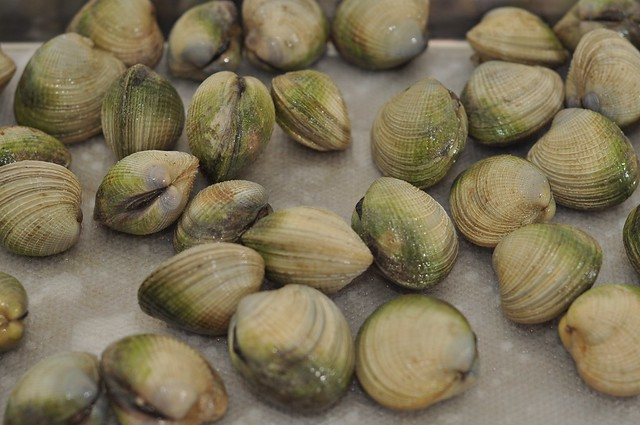cockle: (229, 282, 356, 415), (355, 291, 483, 417), (11, 30, 129, 148), (352, 173, 463, 294), (99, 331, 234, 425), (132, 241, 265, 335), (526, 103, 640, 210), (490, 219, 602, 327), (241, 202, 372, 291), (369, 76, 469, 187), (180, 69, 278, 180), (556, 277, 640, 402), (446, 153, 558, 246), (94, 147, 199, 236), (464, 57, 567, 145), (1, 159, 88, 263), (101, 61, 186, 159), (6, 348, 112, 425), (565, 23, 640, 129), (63, 2, 171, 72), (271, 64, 355, 153), (333, 1, 431, 70), (462, 4, 572, 65), (166, 1, 247, 79), (1, 265, 29, 351)
